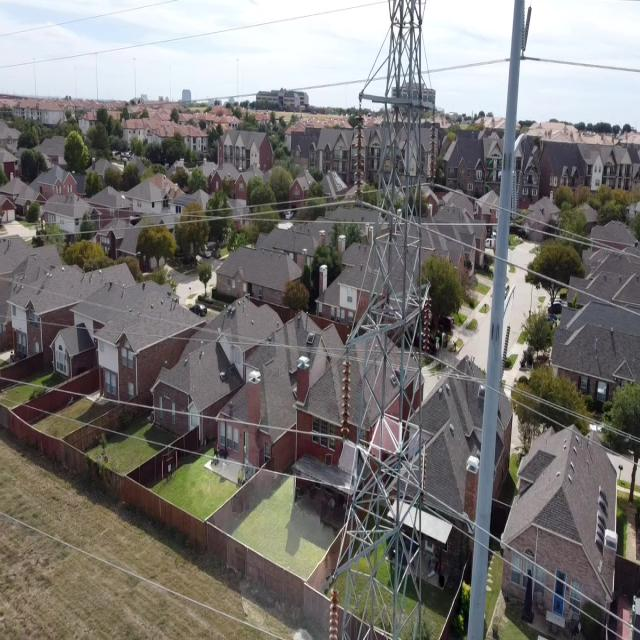杆塔: (318, 0, 431, 640)
正常电缆: (0, 507, 282, 640), (0, 386, 329, 496), (4, 369, 330, 444), (436, 356, 639, 469), (447, 501, 626, 627), (439, 508, 610, 639), (442, 227, 640, 325), (439, 176, 638, 269), (527, 55, 639, 79)
正常绝缘子: (349, 93, 367, 205), (338, 351, 356, 445), (424, 105, 440, 194), (323, 578, 343, 640), (422, 283, 434, 362)
